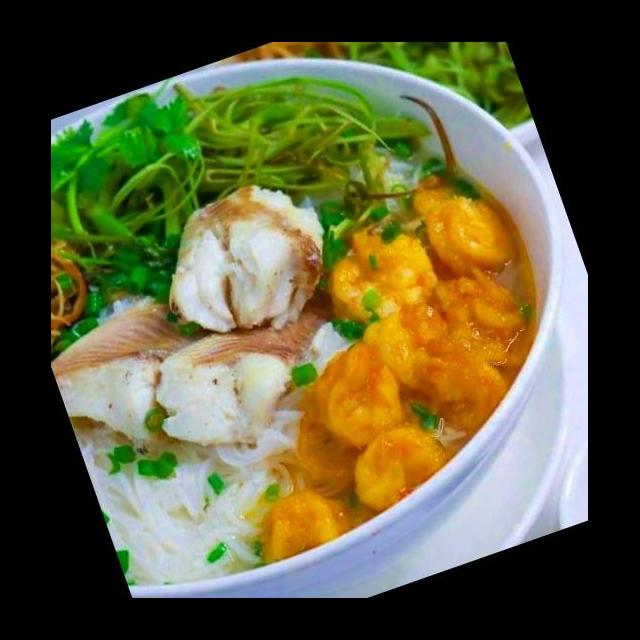bun: (78, 432, 292, 581)
bun ca: (69, 80, 577, 563)
ca: (150, 268, 348, 455), (160, 178, 336, 339), (52, 293, 210, 447)
tom: (322, 224, 446, 329), (306, 337, 412, 454), (406, 176, 522, 282), (361, 301, 468, 395), (348, 420, 448, 516), (256, 487, 364, 567), (412, 349, 514, 433)
